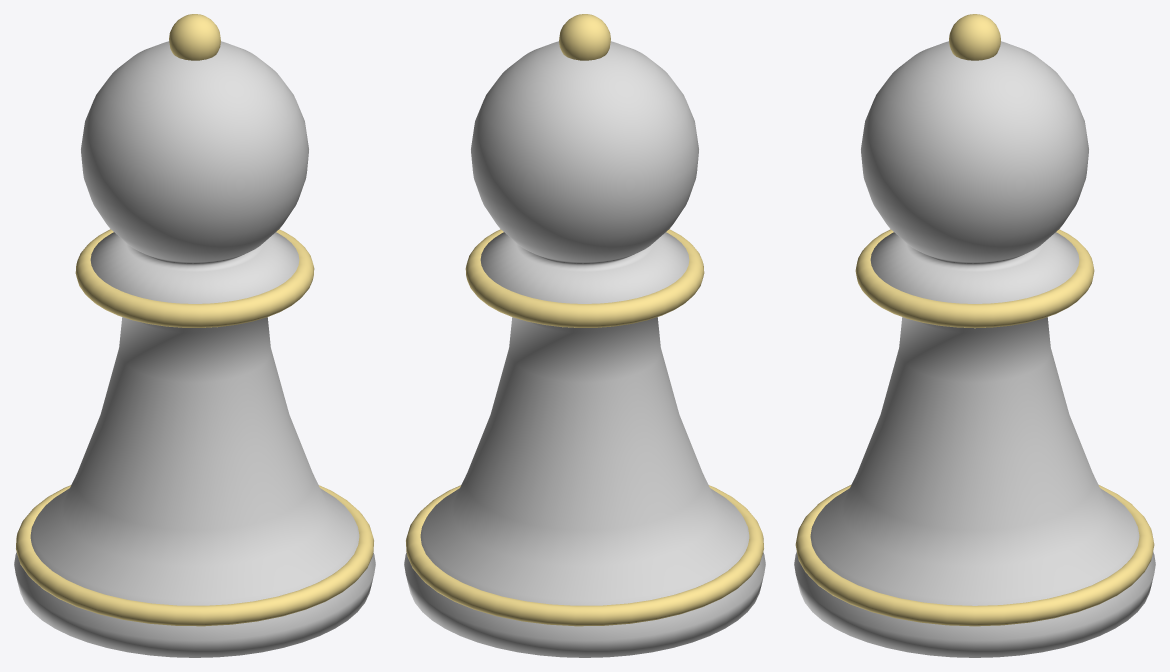
The model's file is ludo_pawn.glb.
3 views of the same model, side by side, from view 1: azimuth 30°, elevation 25°; view 2: azimuth 150°, elevation 25°; view 3: azimuth 270°, elevation 25° (orthographic).
Visible parts, largest first — view 1: PawnBody, PawnGoldTrim_Base, PawnGoldTrim_Collar, PawnGoldTrim_Finial; view 2: PawnBody, PawnGoldTrim_Base, PawnGoldTrim_Collar, PawnGoldTrim_Finial; view 3: PawnBody, PawnGoldTrim_Base, PawnGoldTrim_Collar, PawnGoldTrim_Finial.
Part boxes in pixels (left/top/right/bottom): PawnBody: left=14, top=41, right=375, bottom=657; PawnGoldTrim_Base: left=16, top=485, right=373, bottom=626; PawnGoldTrim_Collar: left=75, top=229, right=314, bottom=327; PawnGoldTrim_Finial: left=169, top=14, right=220, bottom=60; PawnBody: left=404, top=41, right=765, bottom=657; PawnGoldTrim_Base: left=406, top=485, right=763, bottom=626; PawnGoldTrim_Collar: left=465, top=229, right=704, bottom=327; PawnGoldTrim_Finial: left=559, top=14, right=610, bottom=60; PawnBody: left=794, top=41, right=1155, bottom=657; PawnGoldTrim_Base: left=795, top=485, right=1154, bottom=626; PawnGoldTrim_Collar: left=855, top=229, right=1094, bottom=328; PawnGoldTrim_Finial: left=949, top=14, right=1000, bottom=60.
Bounding box in the file's own units: 0.76 × 1.31 × 0.76.
